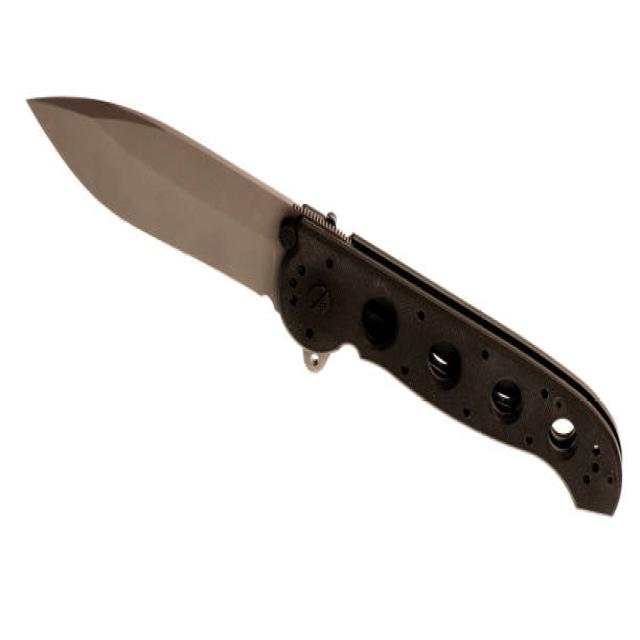knife: (20, 80, 628, 537)
